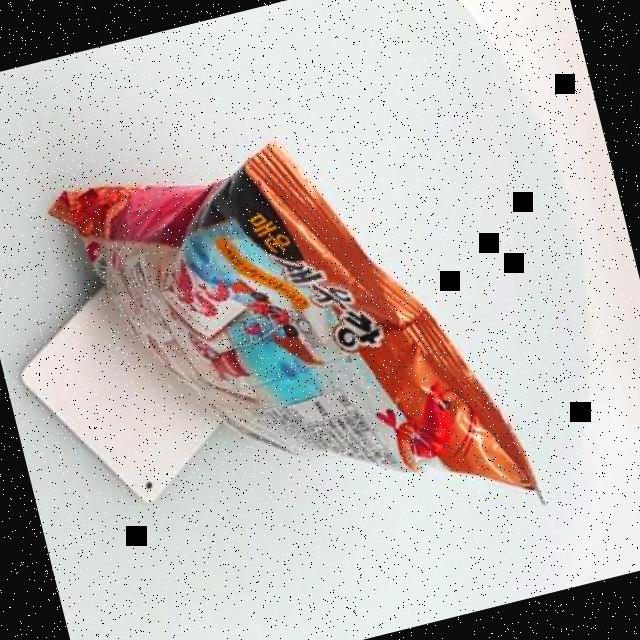snack_bag: (34, 85, 554, 610)
